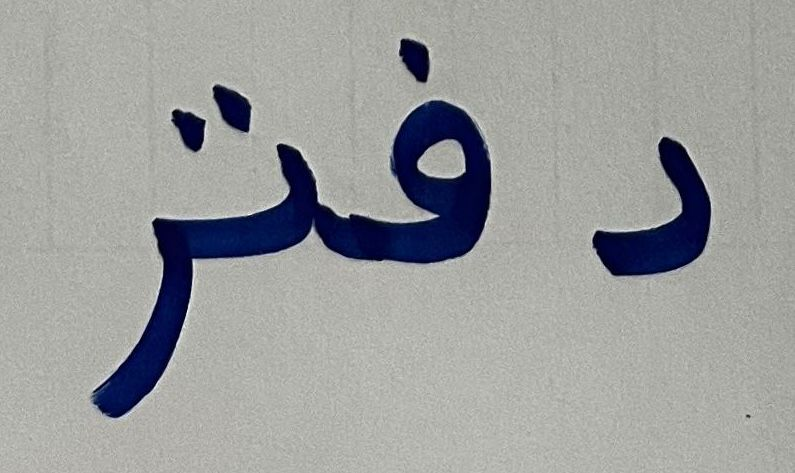dal: (542, 86, 737, 324)
feh: (338, 23, 528, 320)
reh: (79, 261, 209, 431)
teh: (178, 59, 331, 258)
